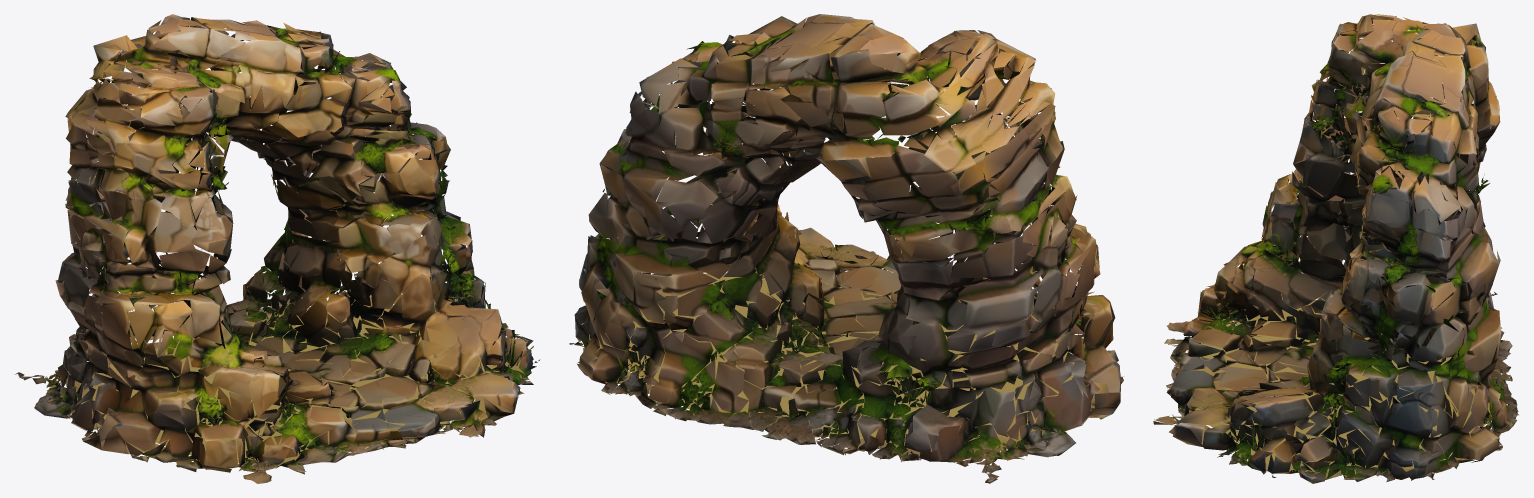
File: Rocky_Archway_town.glb
3 renders of one model, left to right at view 1: azimuth 30°, elevation 25°; view 2: azimuth 150°, elevation 25°; view 3: azimuth 270°, elevation 25°, orthographic. The views are drawn at different scales.
Parts seen in each view (by area): view 1: Rocky_Archway; view 2: Rocky_Archway; view 3: Rocky_Archway.
Part boxes in pixels (x1,y1,x2,y2): Rocky_Archway: [15, 14, 539, 483]; Rocky_Archway: [569, 14, 1123, 483]; Rocky_Archway: [1153, 14, 1518, 483].
Size of the model in its own units: 1.91 by 1.44 by 1.45.
Materials: 1 (1 with a texture image).
